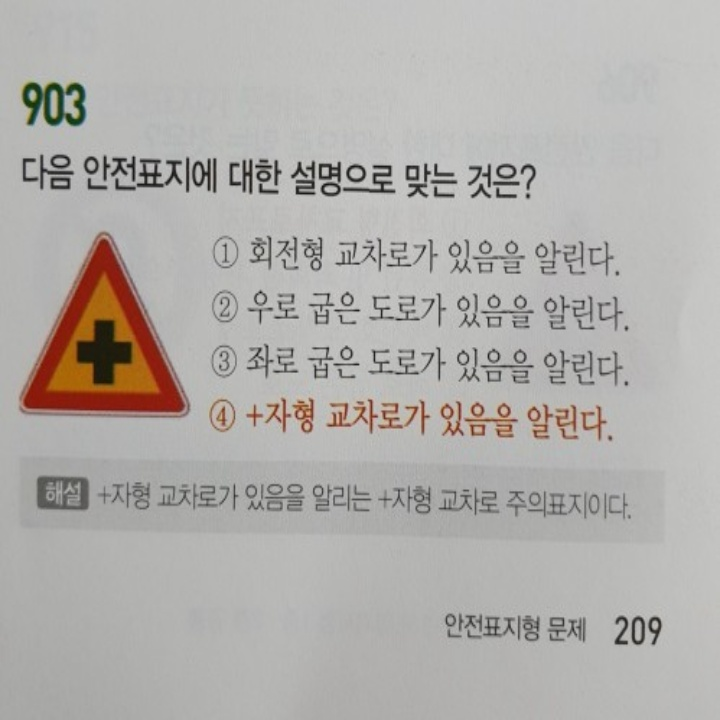inter: (73, 314, 136, 390)
